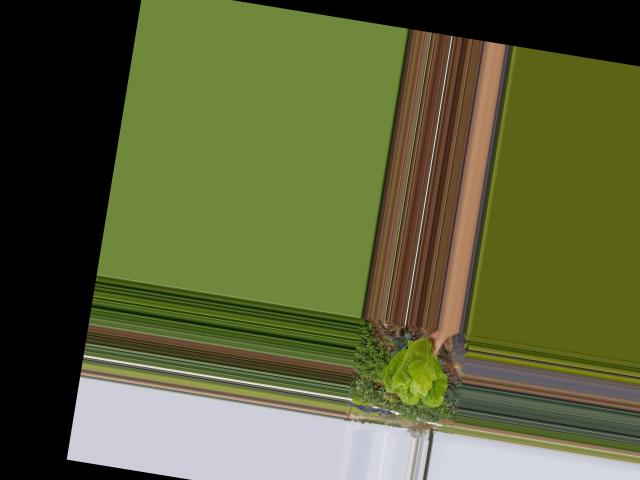lettuce: (376, 326, 458, 411)
